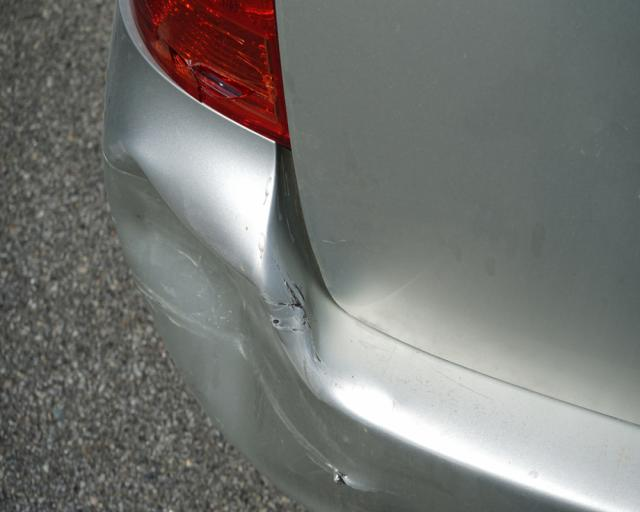dent: (111, 153, 284, 458)
lamp broken: (128, 0, 290, 149)
scratch: (258, 257, 326, 364)
